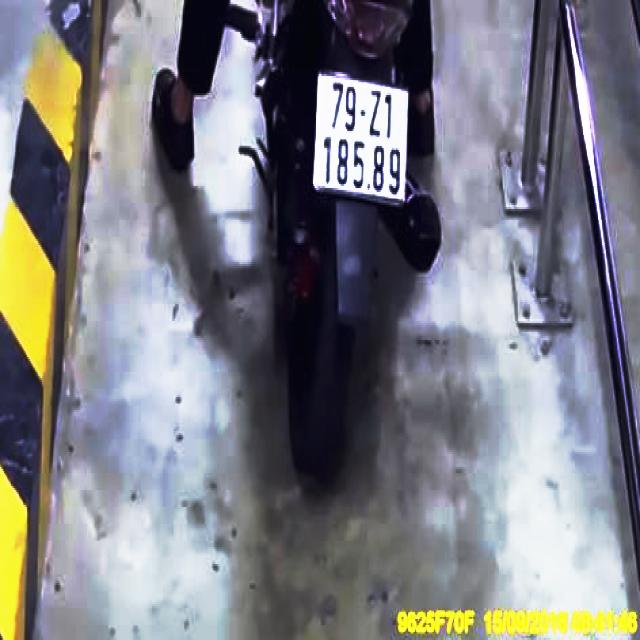license_plate: (314, 75, 409, 204)
